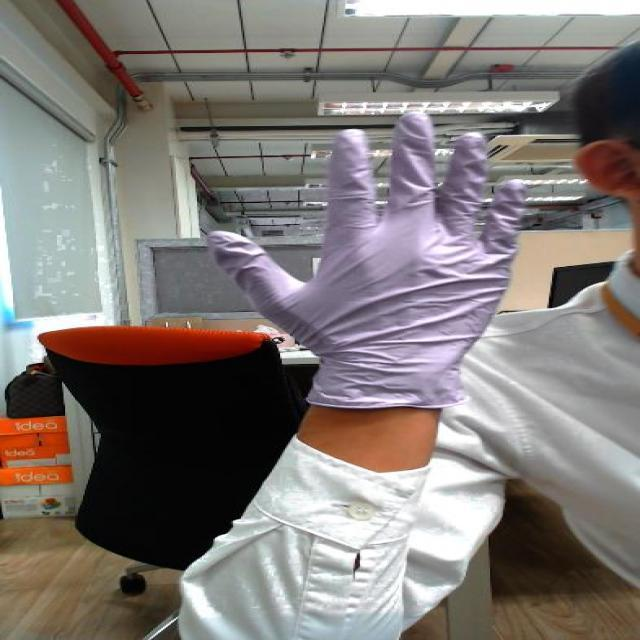with_gloves: (192, 98, 547, 332)
